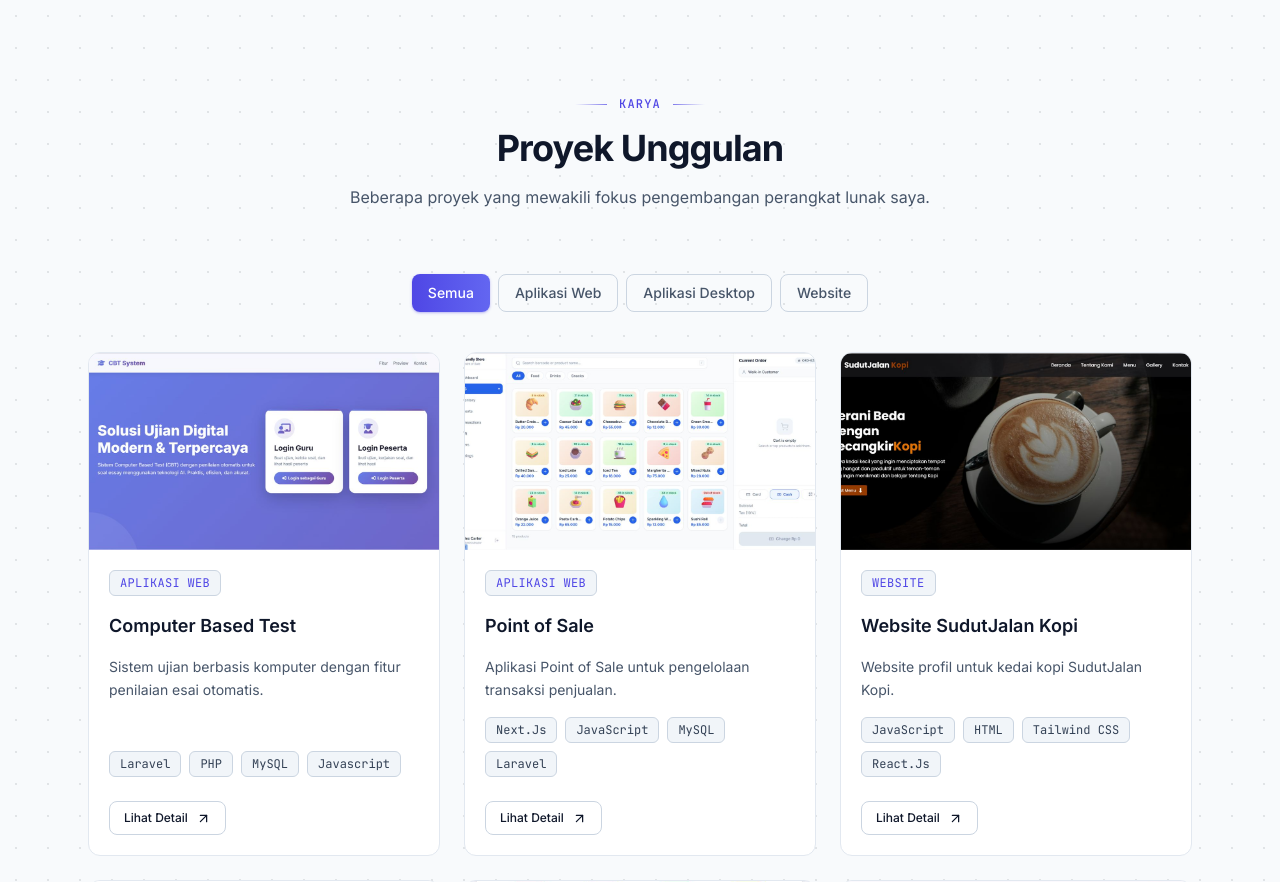
Test: Section Projects — filter, empty state, modal › membuka modal detail proyek dengan label terjemahan
Click the button "Lihat Detail" below "Computer Based Test" at (167, 818), box 109,801 -> 226,835
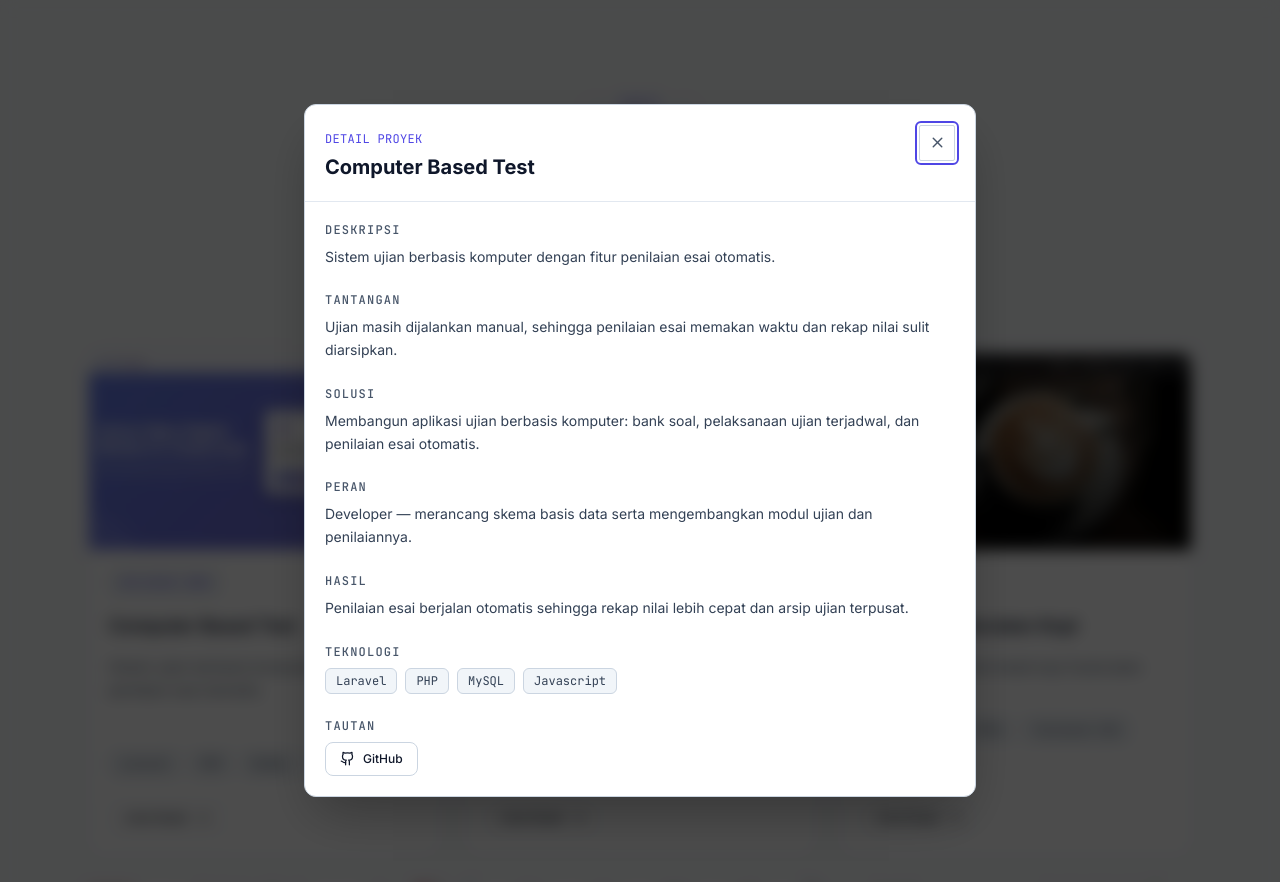
Expected: the dialog is shown, 304,104 -> 976,796
Expected: the text "Detail Proyek" is shown, 325,130 -> 422,146
Expected: the heading "Deskripsi" is shown, 325,222 -> 401,238
